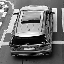mobil: (7, 5, 54, 57)
